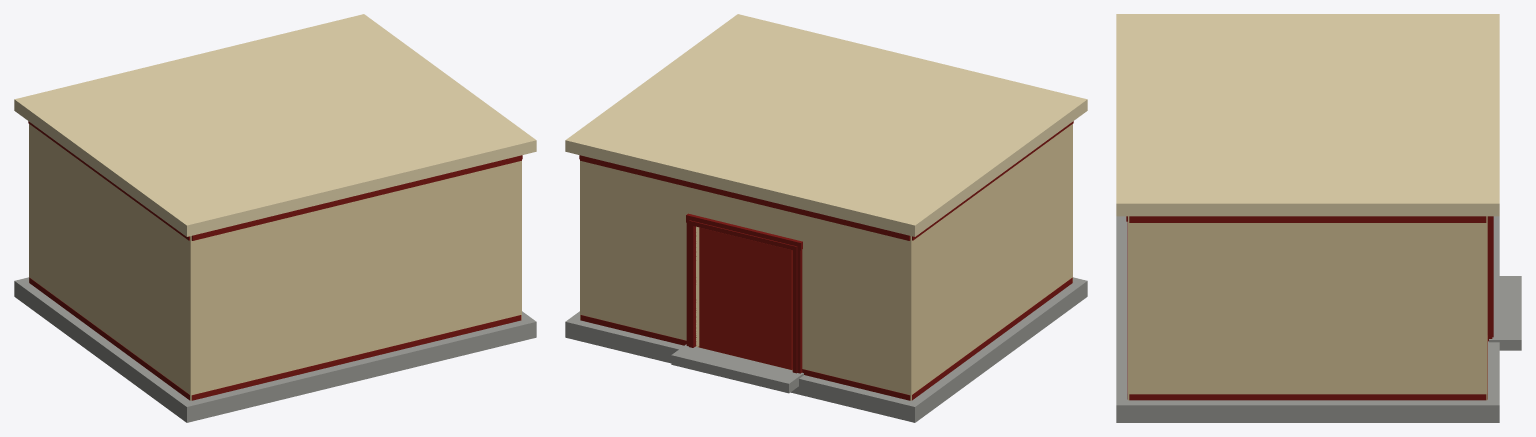
The model's file is SM_Interior_slifer_banner_room_Shell.fbx.
The picture shows the model from 3 angles, left to right: view 1: azimuth 30°, elevation 25°; view 2: azimuth 150°, elevation 25°; view 3: azimuth 270°, elevation 25°; orthographic projection. The views are drawn at different scales.
Parts seen in each view (by area): view 1: SM_Interior_slifer_banner_room_Shell; view 2: SM_Interior_slifer_banner_room_Shell; view 3: SM_Interior_slifer_banner_room_Shell.
Boxes of the visible parts, <box> form: SM_Interior_slifer_banner_room_Shell: <box>14,14,536,422</box>; SM_Interior_slifer_banner_room_Shell: <box>565,14,1087,422</box>; SM_Interior_slifer_banner_room_Shell: <box>1116,14,1521,422</box>.
Bounding box in the file's own units: 6.86 × 3.7 × 6.2.
